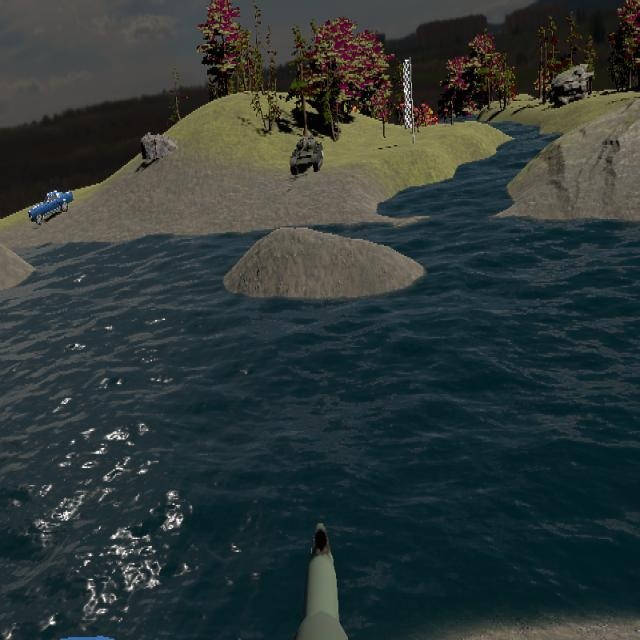Tank: (290, 134, 324, 176)
car: (28, 188, 73, 225)
